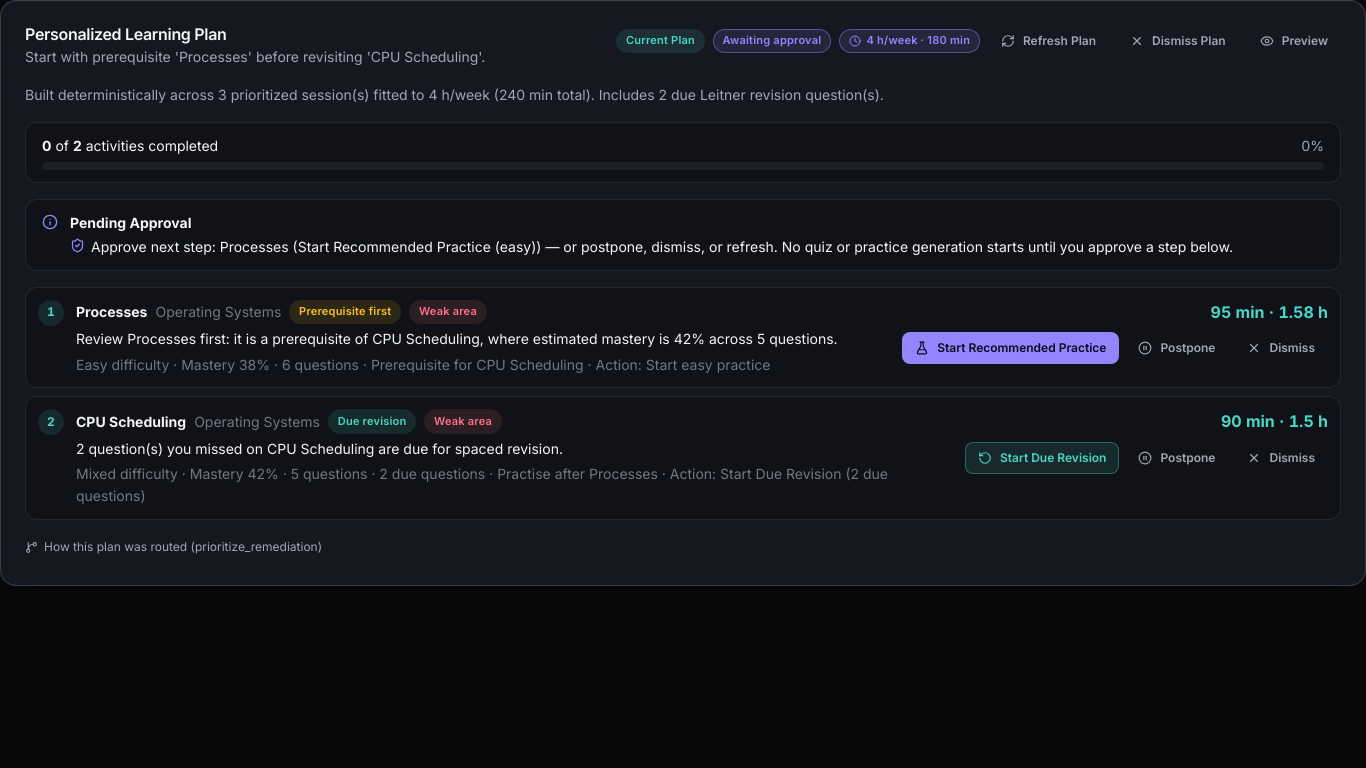
Scenario: LearningPlan Stage 2 persistent HITL workflow › supports due revision approval, postpone, dismiss, and refresh with previous-epoch history and error alert
Later steps or results of the test are not shown.
Expected: the text "Current Plan" is shown, [616,29,705,53]
Note: Action error is presented cleanly via alert without losing the plan
What coordinates should you click on to do the following:
click the button "Start Recommended Practice"
I would click on:
 (1011, 348)
Its box is [902,332,1120,364].
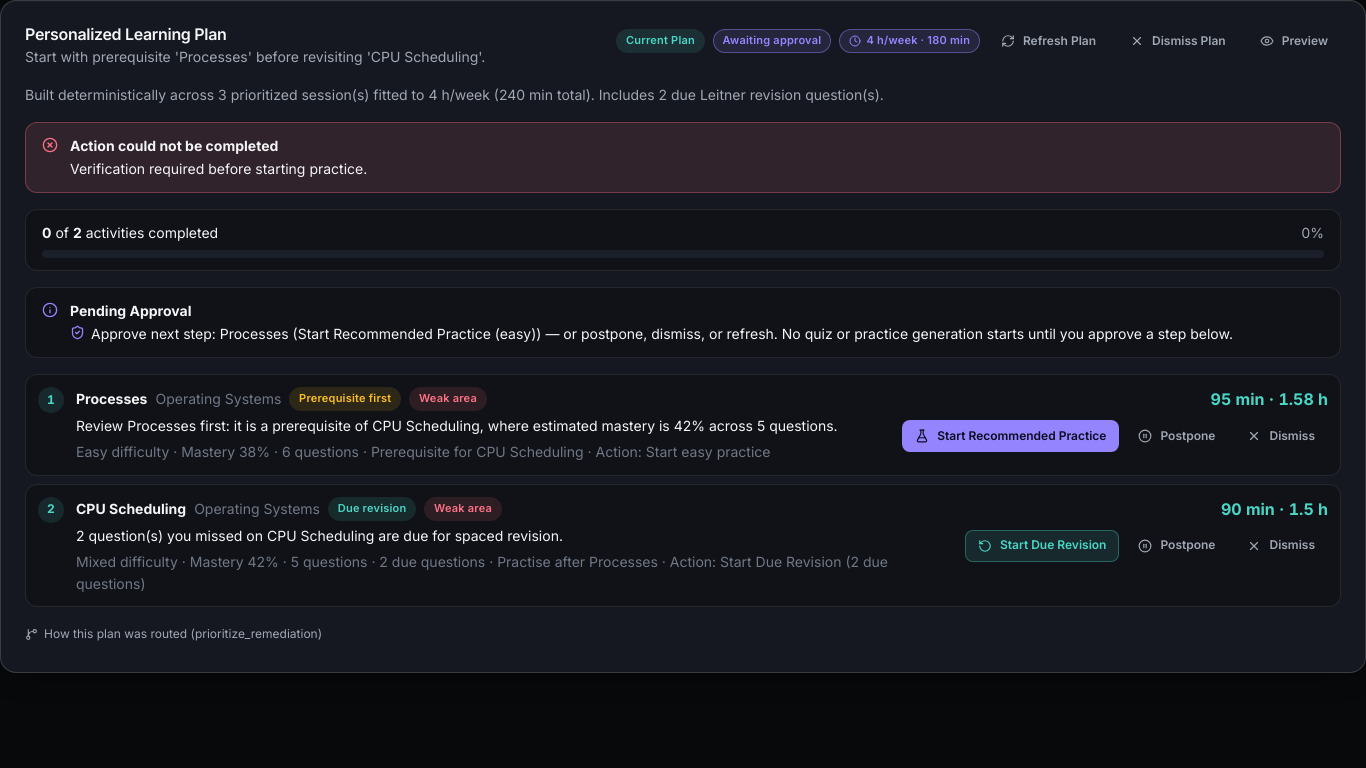
Result: the message "Action could not be completed Verification required before starting practice." is shown at [25,122,1341,193]
Note: Postpone first item
What coordinates should you click on to do the following:
click the button "Postpone" below "95 min · 1.58 h"
I would click on:
 (1177, 436)
Its box is [1125,420,1228,452].
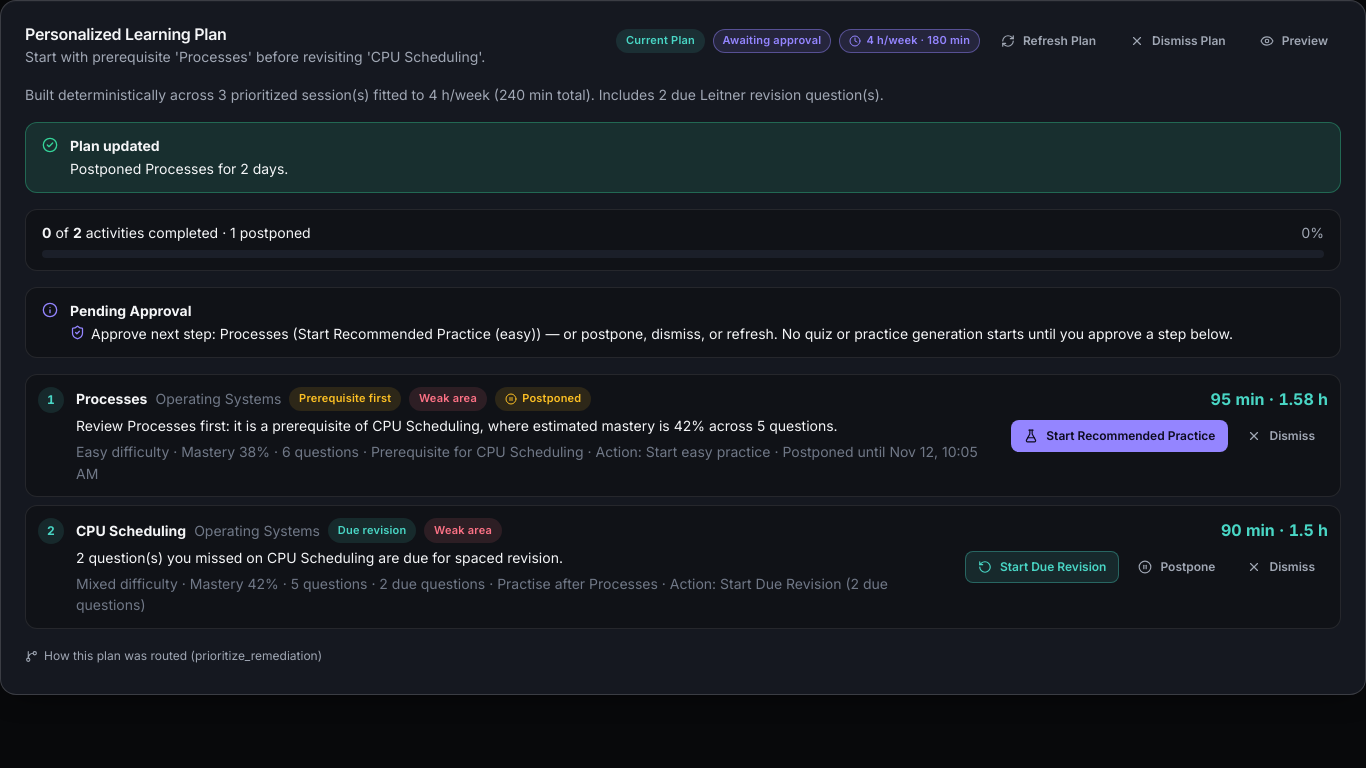
Result: the text "Postponed" is shown at [495,387,591,411]
What coordinates should you click on to do the following:
click the button "Refresh Plan"
I would click on:
 (1048, 41)
Its box is [988,25,1109,57].
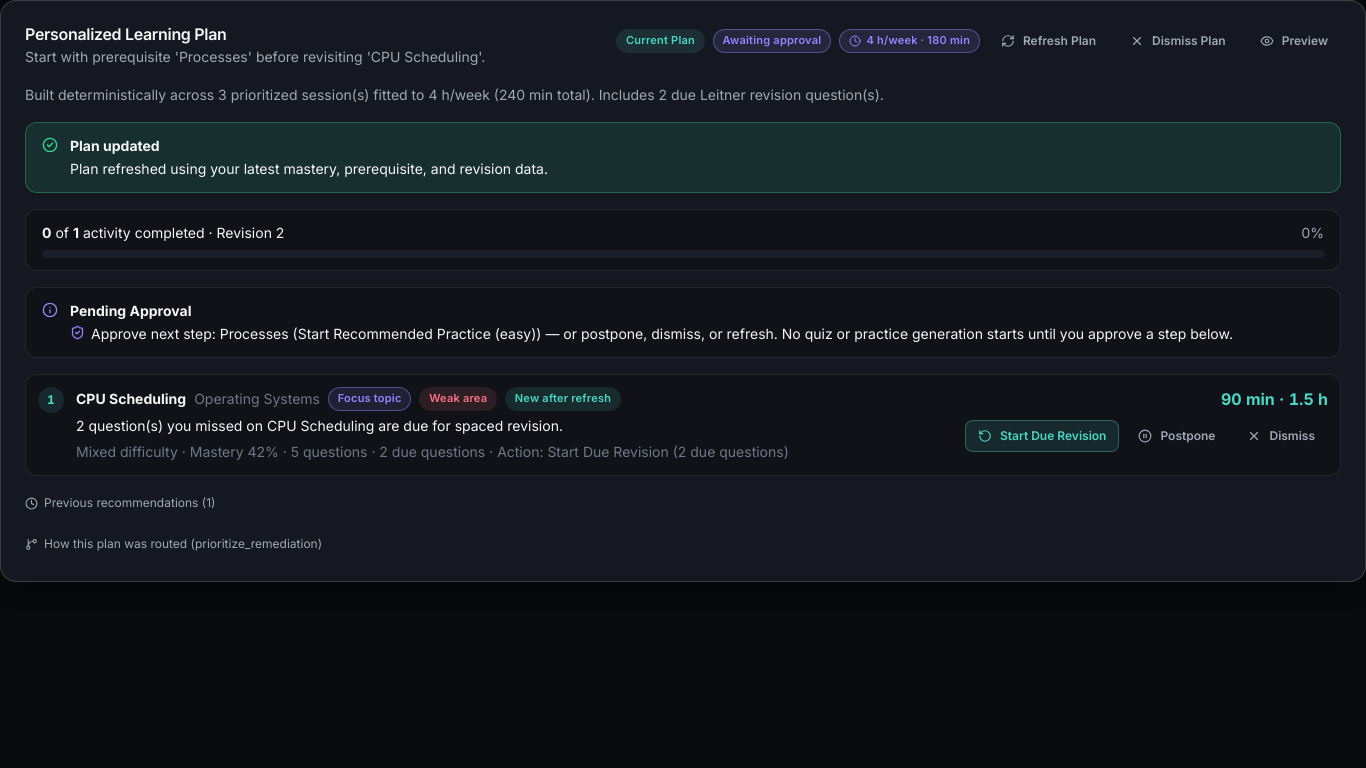
Result: the text "New after refresh" is shown at [505,387,621,411]
Result: the heading "Previous recommendations (1)" is shown at [25,494,216,513]
